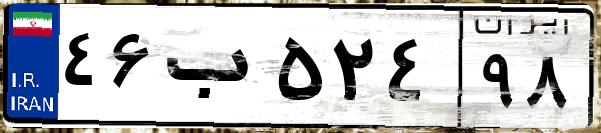2: (330, 28, 385, 110)
4: (385, 28, 445, 110), (57, 26, 110, 100)
5: (270, 28, 330, 110)
6: (110, 28, 158, 98)
8: (525, 38, 570, 115)
9: (475, 38, 525, 113)
ب: (158, 20, 270, 120)
